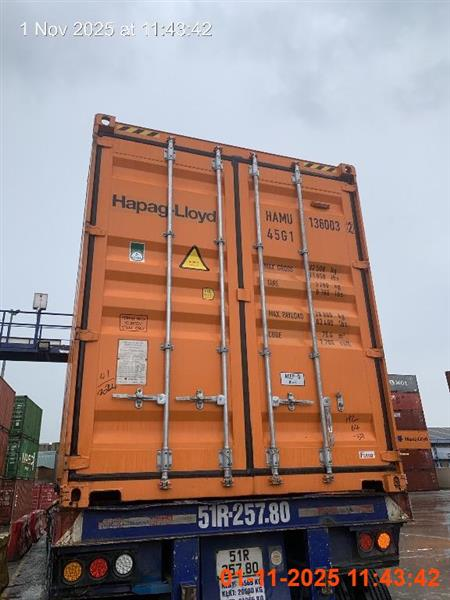broken: (43, 114, 414, 599)
